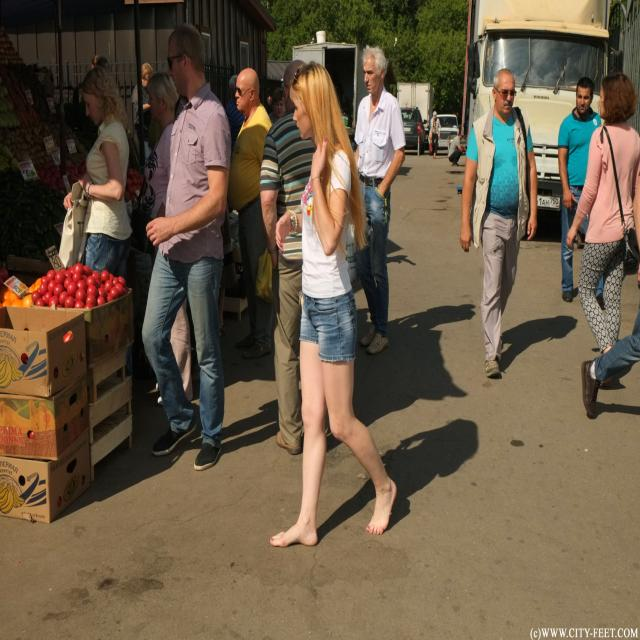Barefoots: (366, 478, 397, 534), (270, 523, 318, 548)
